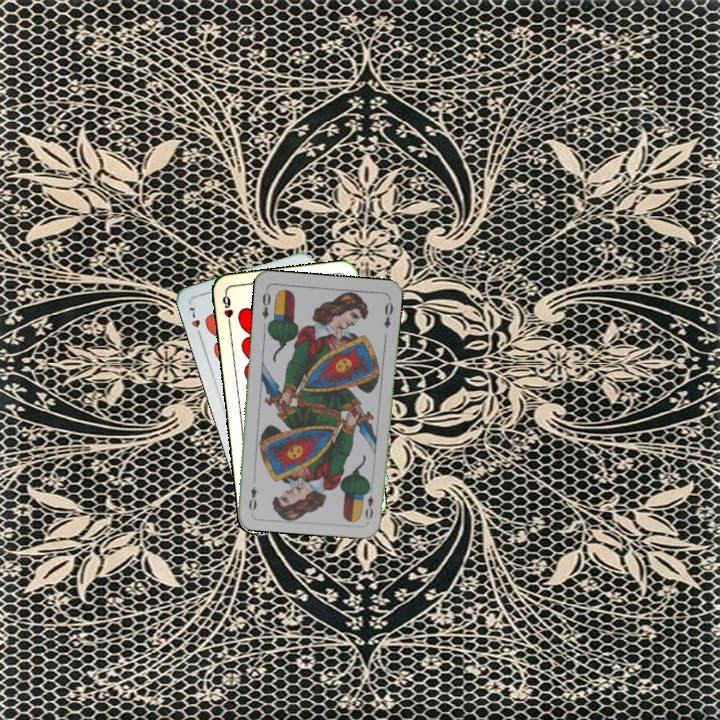EO: (361, 482, 376, 522), (258, 285, 273, 321)
H7: (184, 303, 204, 341)
H9: (218, 289, 236, 330)
